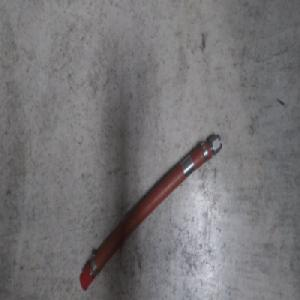Hose: (78, 128, 224, 292)
